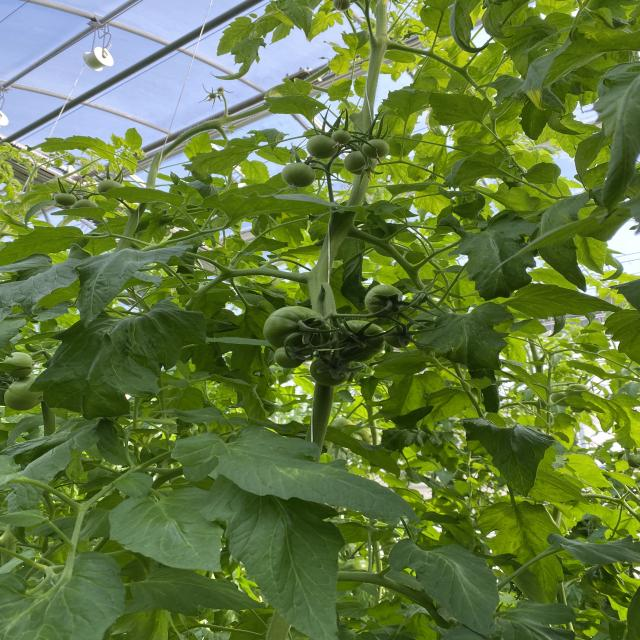unripe tomato: (231, 291, 398, 403)
